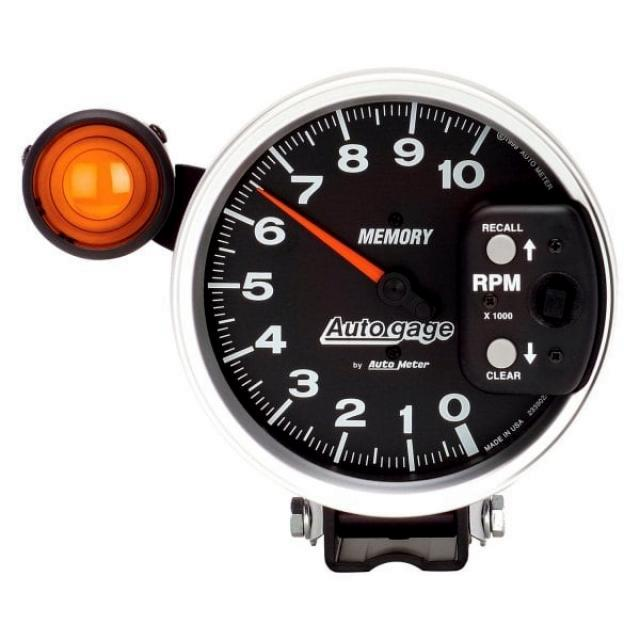Needle_Tip: (248, 171, 291, 225)
Needle_base: (369, 251, 426, 316)
max_value: (430, 134, 503, 218)
min_value: (429, 386, 482, 434)
